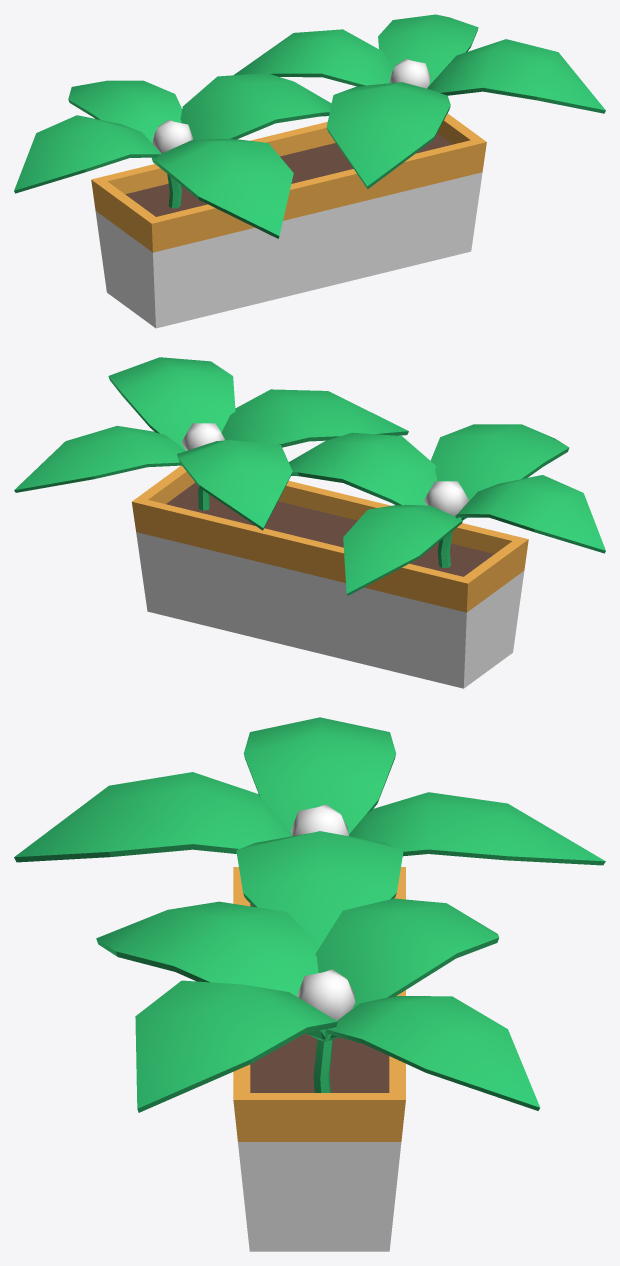
Rendered from Plant1 LV2.fbx.
3 renders of one model, top to bottom at view 1: azimuth 30°, elevation 25°; view 2: azimuth 150°, elevation 25°; view 3: azimuth 270°, elevation 25°, orthographic. The views are drawn at different scales.
Visible parts, largest first — view 1: Plant_LV2; view 2: Plant_LV2; view 3: Plant_LV2.
Part boxes in pixels (bbox=[...]): Plant_LV2: bbox=[14, 14, 605, 328]; Plant_LV2: bbox=[14, 357, 605, 688]; Plant_LV2: bbox=[14, 717, 605, 1251].
Bounding box in the file's own units: 182 × 65.27 × 124.
